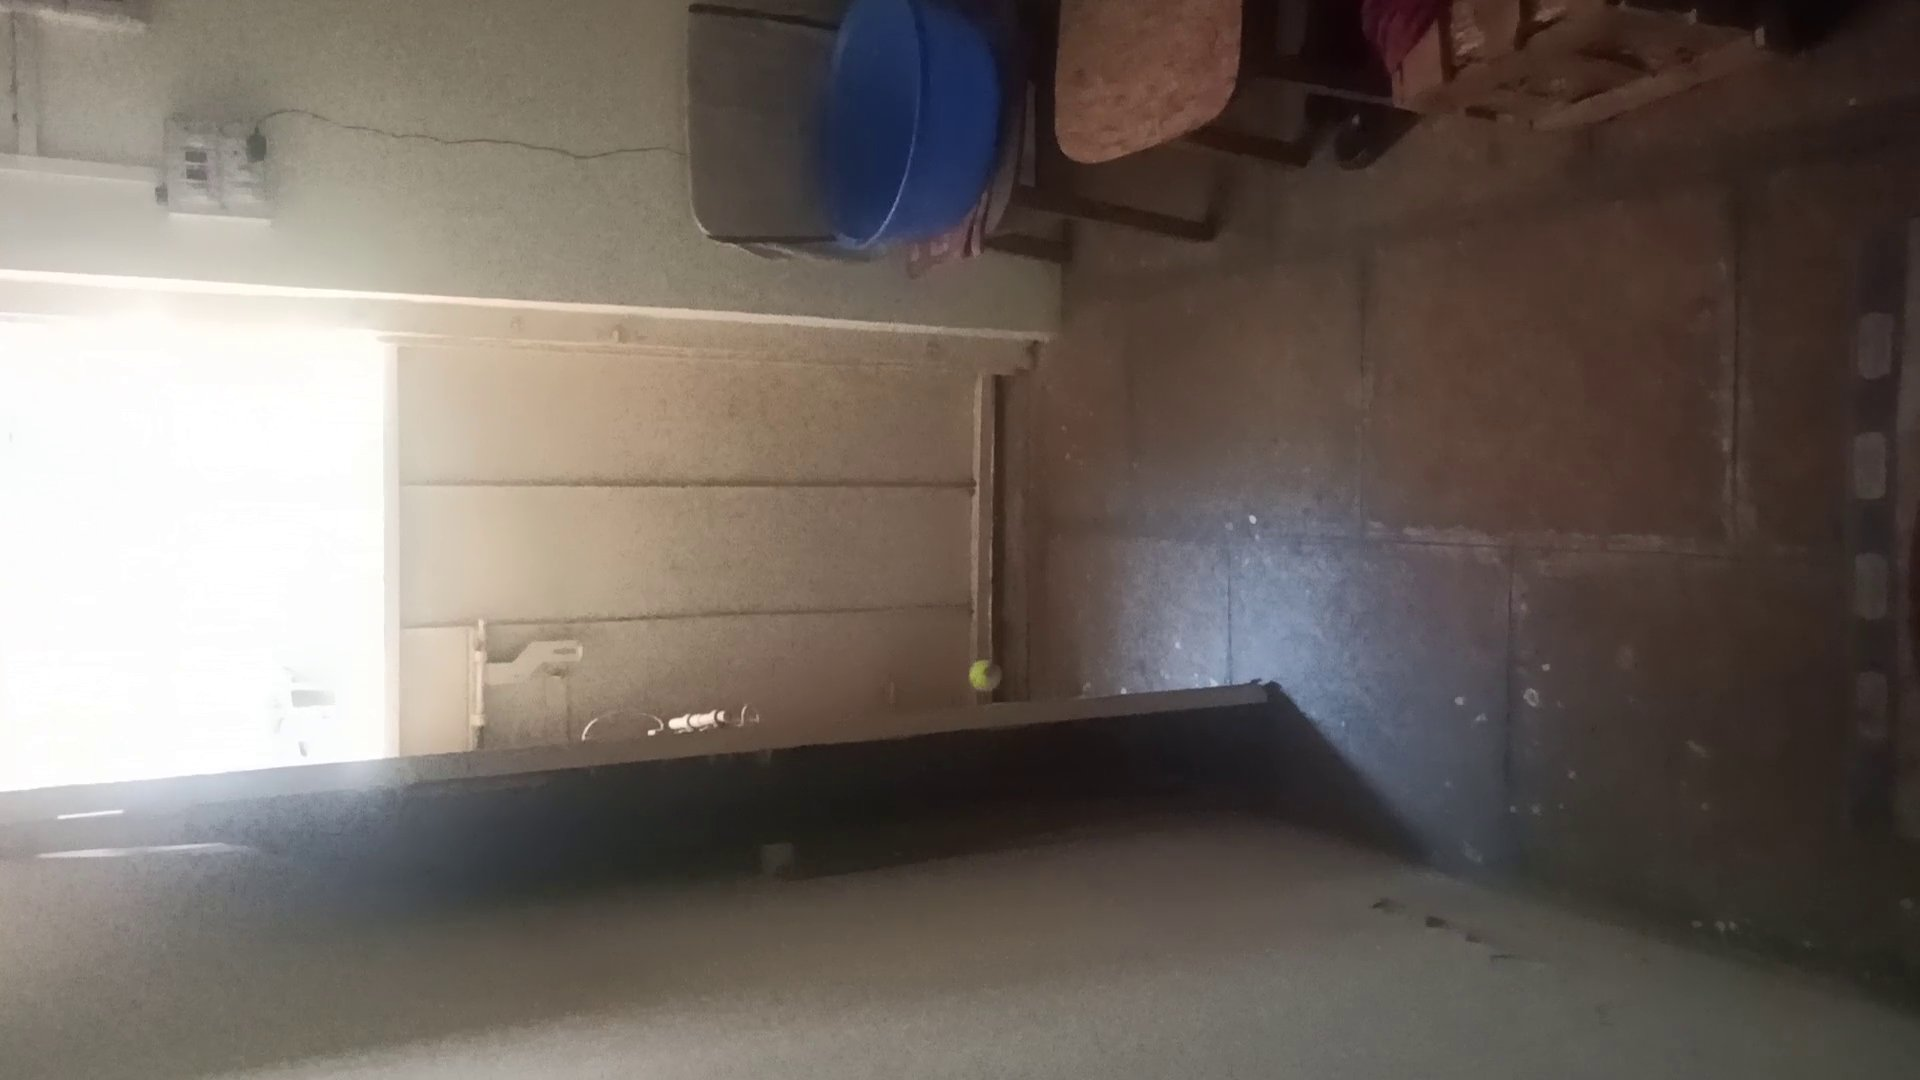Tennis-Ball: (969, 659, 1002, 690)
